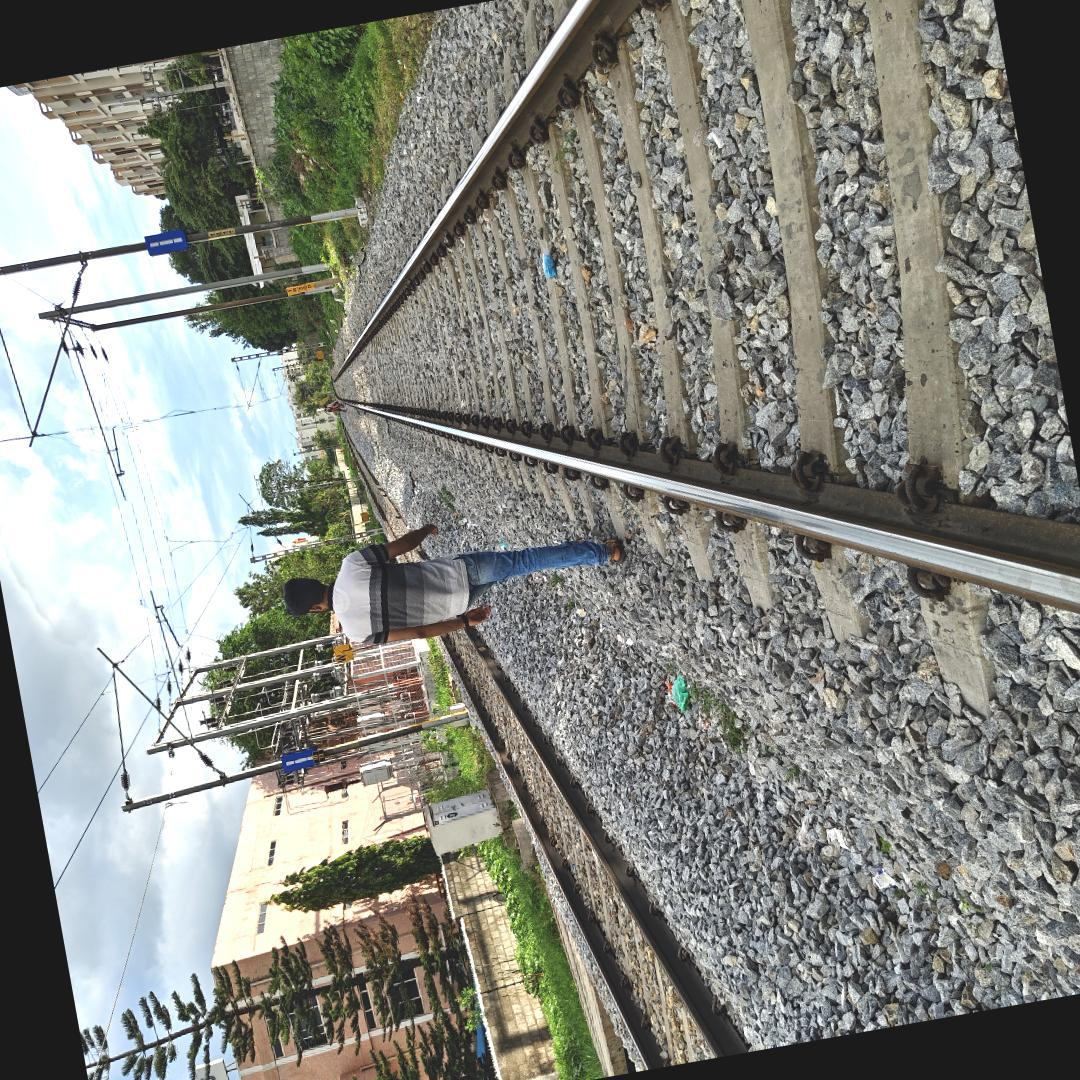standing: (262, 478, 636, 666)
